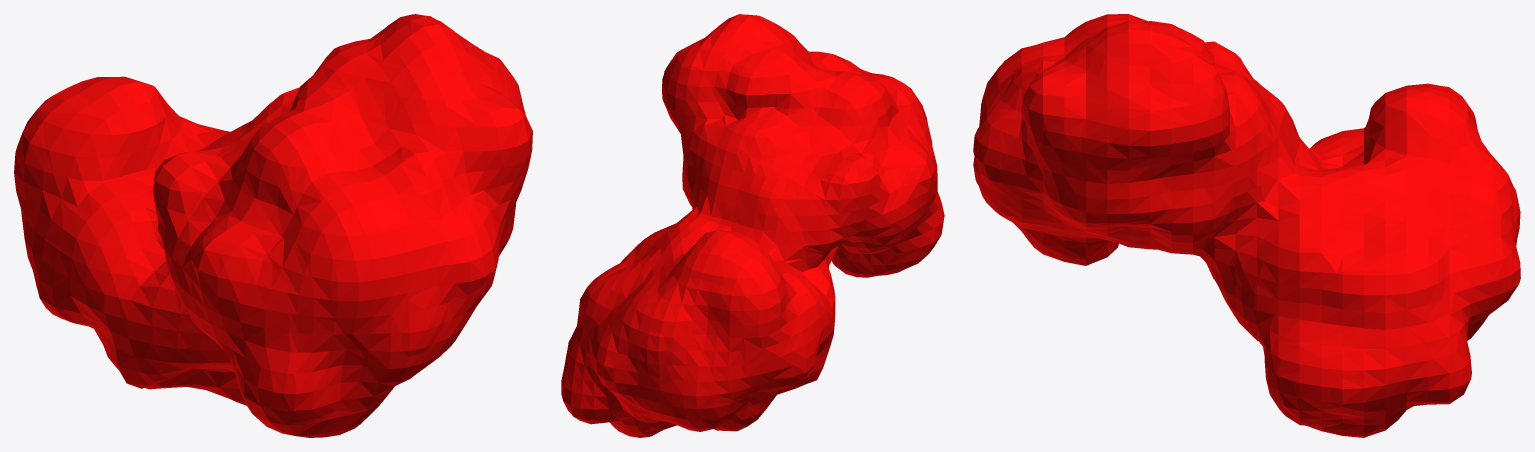
Rendered from garL_coarse.dae.
3 views of the same model, side by side, from view 1: azimuth 30°, elevation 25°; view 2: azimuth 150°, elevation 25°; view 3: azimuth 270°, elevation 25° (orthographic). The views are drawn at different scales.
Parts seen in each view (by area): view 1: garL; view 2: garL; view 3: garL.
Part boxes in pixels (x1,y1,x2,y2): garL: (14, 14, 532, 437); garL: (561, 14, 944, 437); garL: (973, 14, 1520, 437).
Size of the model in its own units: 52.08 by 68.9 by 84.53.
